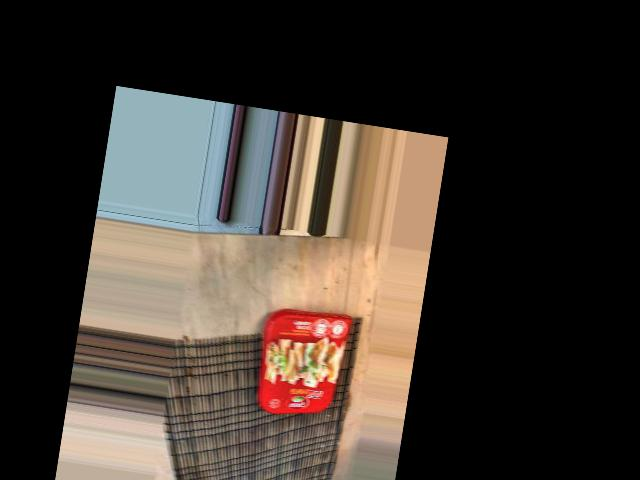cheese: (161, 298, 301, 407)
